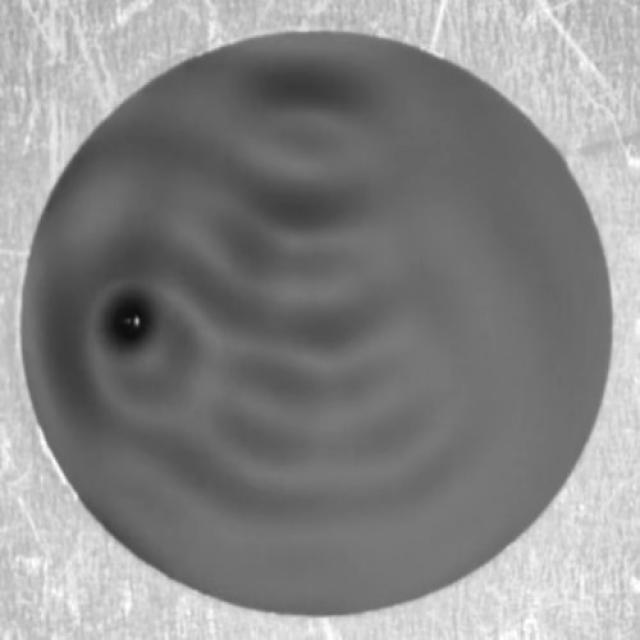droplet: (108, 301, 151, 344)
